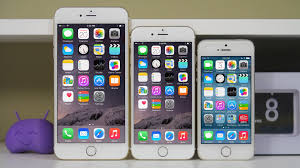iphone: (50, 5, 129, 161), (130, 22, 194, 158), (196, 32, 255, 160)
iphone5: (52, 4, 131, 160), (126, 20, 196, 160), (195, 33, 254, 161)
